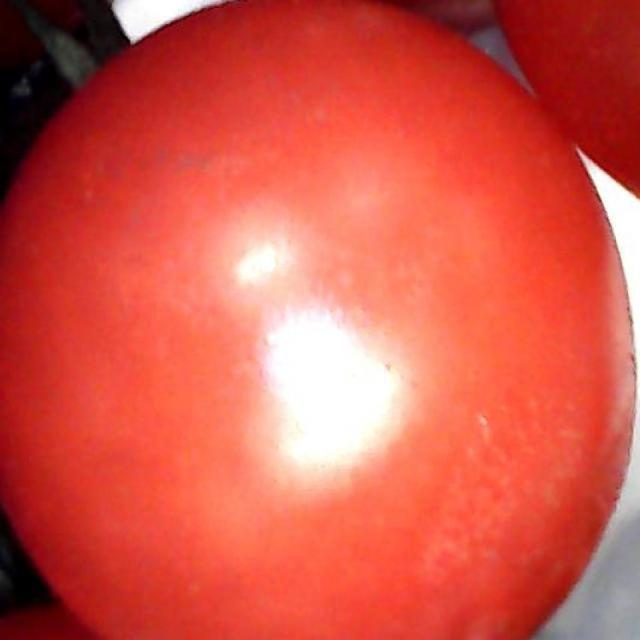Healthy Fruit: (8, 3, 422, 427)
